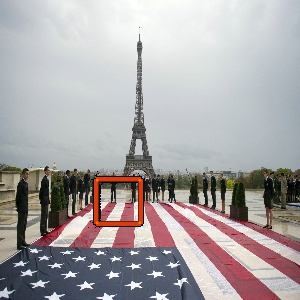square: (90, 175, 146, 229)
